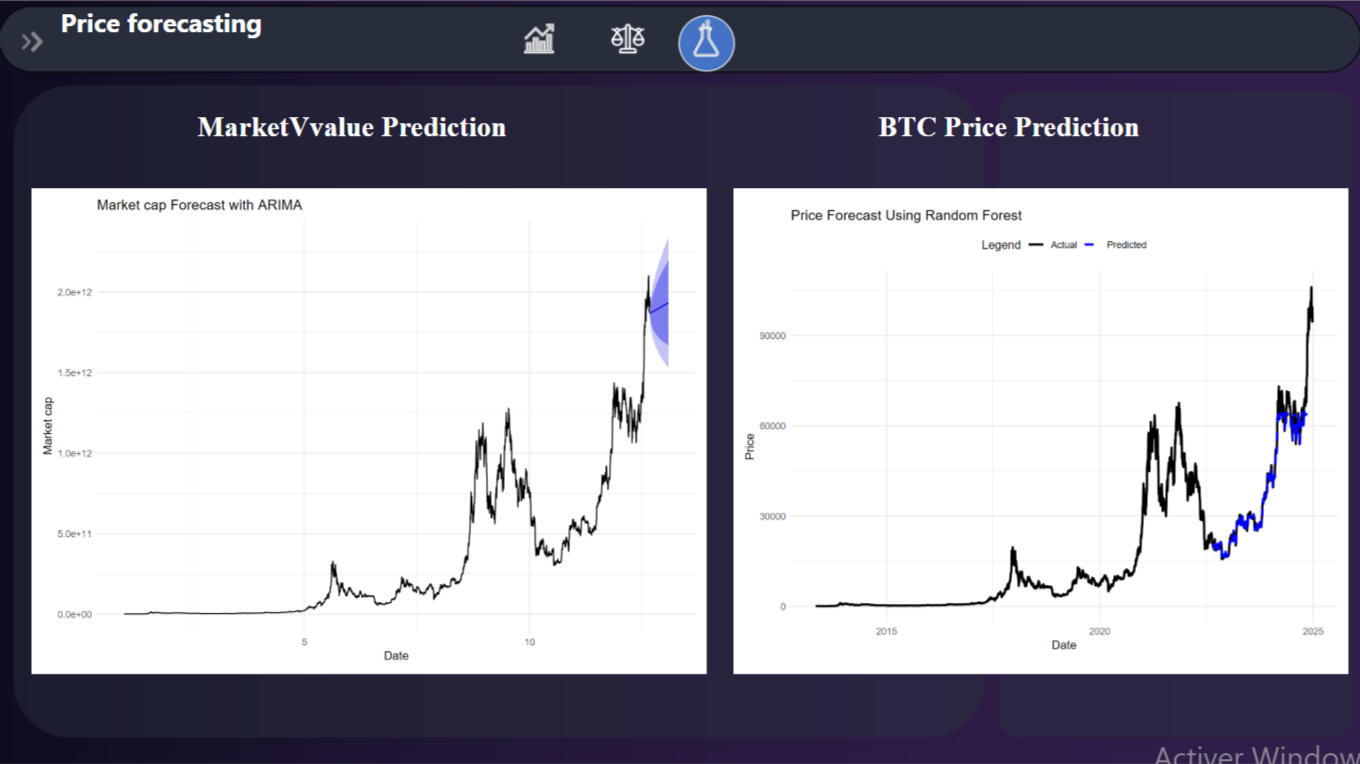

This screenshot's page, from the dashboard's own definition file:
{"tool":"powerbi","page":{"name":"Price forecasting","canvas":[1280,720],"ordinal":2},"visuals":[{"type":"textbox","box":[51.6,0,201.6,79.7],"z":0},{"type":"actionButton","box":[470.9,14.6,81.5,53.5],"z":1000},{"type":"actionButton","box":[562.1,14.6,66.9,53.5],"z":2000},{"type":"actionButton","box":[11,7.3,40.2,66.9],"z":3000},{"type":"scriptVisual","fields":{"Values":["btc.snapped_at","btc.market_cap"]},"box":[31.3,178.2,634.6,456.4],"z":4000},{"type":"scriptVisual","fields":{"Values":["btc.Date","btc.price"]},"box":[690.8,178.2,578.3,456.4],"z":5000},{"type":"textbox","box":[126.6,98.5,411.1,79.7],"z":6000},{"type":"textbox","box":[744,98.5,411.1,79.7],"z":7000}]}

Visuals, with their boxes on the page's 1280x720 design canvas (x1, y1, x2, y2). These are canvas units, not pixel positions in the 1360x764 screenshot, which may show the page scaled, cropped or inside an application window:
textbox: Rect(52, 0, 253, 80)
actionButton: Rect(471, 15, 552, 68)
actionButton: Rect(562, 15, 629, 68)
actionButton: Rect(11, 7, 51, 74)
scriptVisual - btc.snapped_at x btc.market_cap: Rect(31, 178, 666, 635)
scriptVisual - btc.Date x btc.price: Rect(691, 178, 1269, 635)
textbox: Rect(127, 98, 538, 178)
textbox: Rect(744, 98, 1155, 178)
